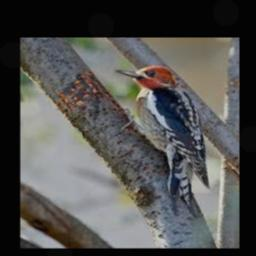Woodpecker: (114, 65, 209, 216)
